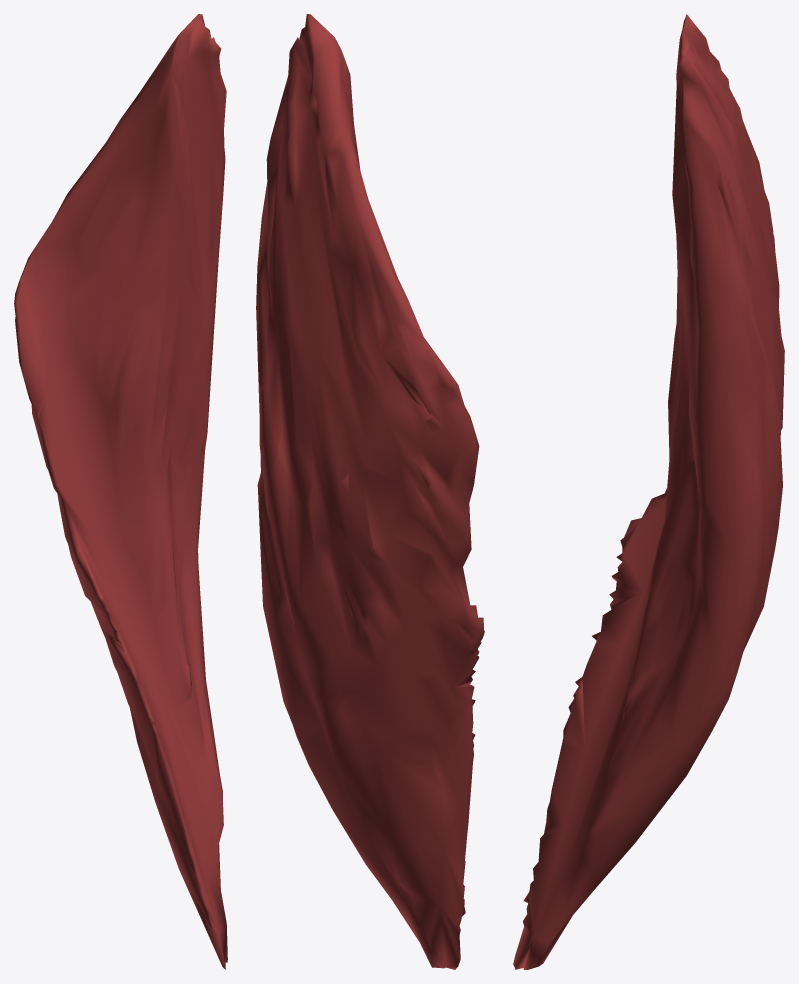
The model's file is anconeus-muscle-l.glb.
The picture shows the model from 3 angles, left to right: view 1: azimuth 30°, elevation 25°; view 2: azimuth 150°, elevation 25°; view 3: azimuth 270°, elevation 25°; orthographic projection. The views are drawn at different scales.
Parts seen in each view (by area): view 1: Anconeus muscle.l; view 2: Anconeus muscle.l; view 3: Anconeus muscle.l.
Part boxes in pixels (<box>): Anconeus muscle.l: <box>14,14,227,969</box>; Anconeus muscle.l: <box>256,14,484,969</box>; Anconeus muscle.l: <box>513,14,784,969</box>.
Size of the model in its own units: 0.0238 by 0.1046 by 0.0262.
